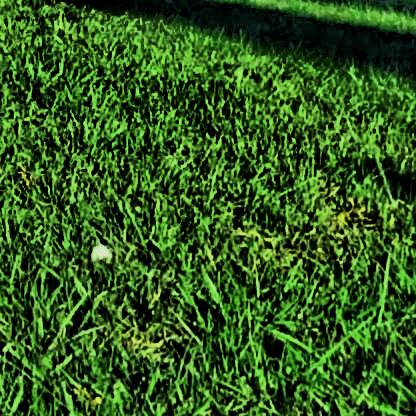golfball: (87, 240, 110, 259)
